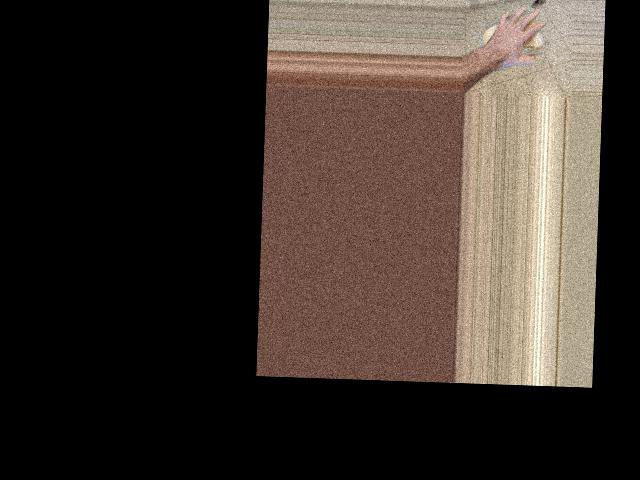cheese: (479, 5, 547, 72)
